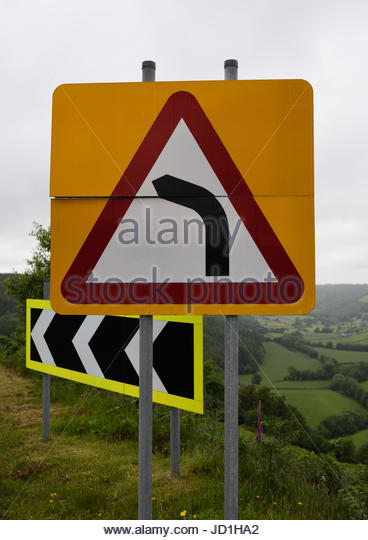Bend_to_left: (58, 91, 306, 304)
